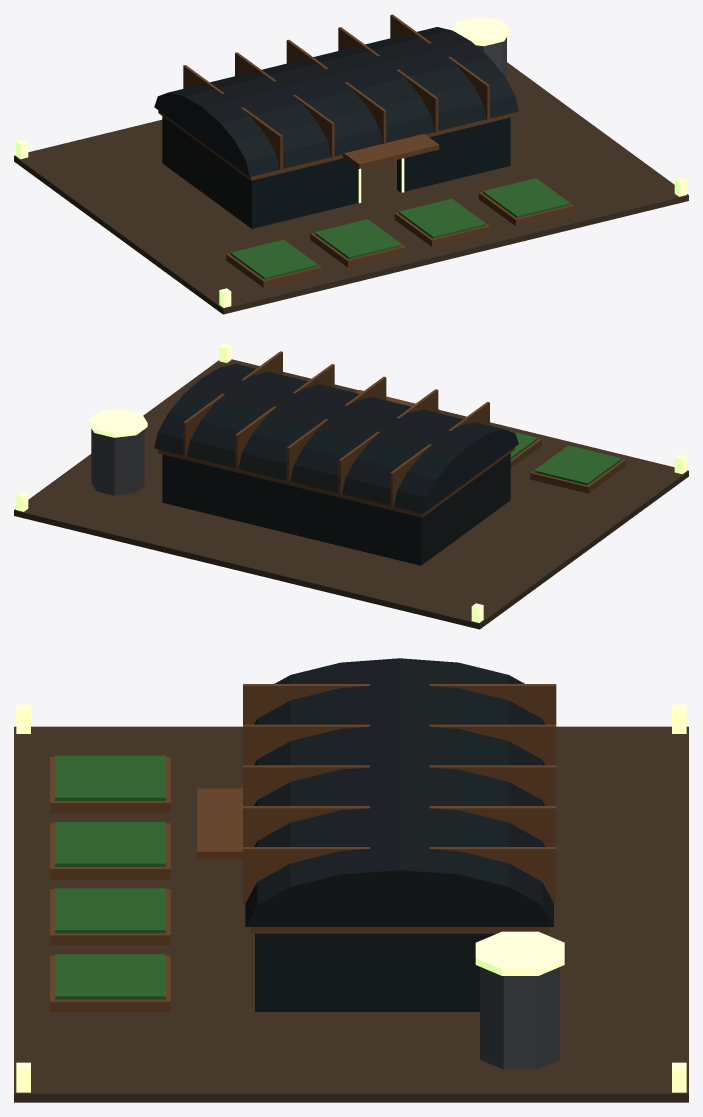
Rendered from shaddai_dist_meadow_farm_v01.glb.
3 renders of one model, top to bottom at view 1: azimuth 30°, elevation 25°; view 2: azimuth 150°, elevation 25°; view 3: azimuth 270°, elevation 25°, orthographic. The views are drawn at different scales.
Visible parts, largest first — view 1: shaddai_dist_meadow_farm; view 2: shaddai_dist_meadow_farm; view 3: shaddai_dist_meadow_farm.
Part boxes in pixels (x1=…): shaddai_dist_meadow_farm: x1=14, y1=14, x2=688, y2=314; shaddai_dist_meadow_farm: x1=14, y1=343, x2=688, y2=629; shaddai_dist_meadow_farm: x1=14, y1=658, x2=688, y2=1102.
Bounding box in the file's own units: 36 × 7.1 × 28.
